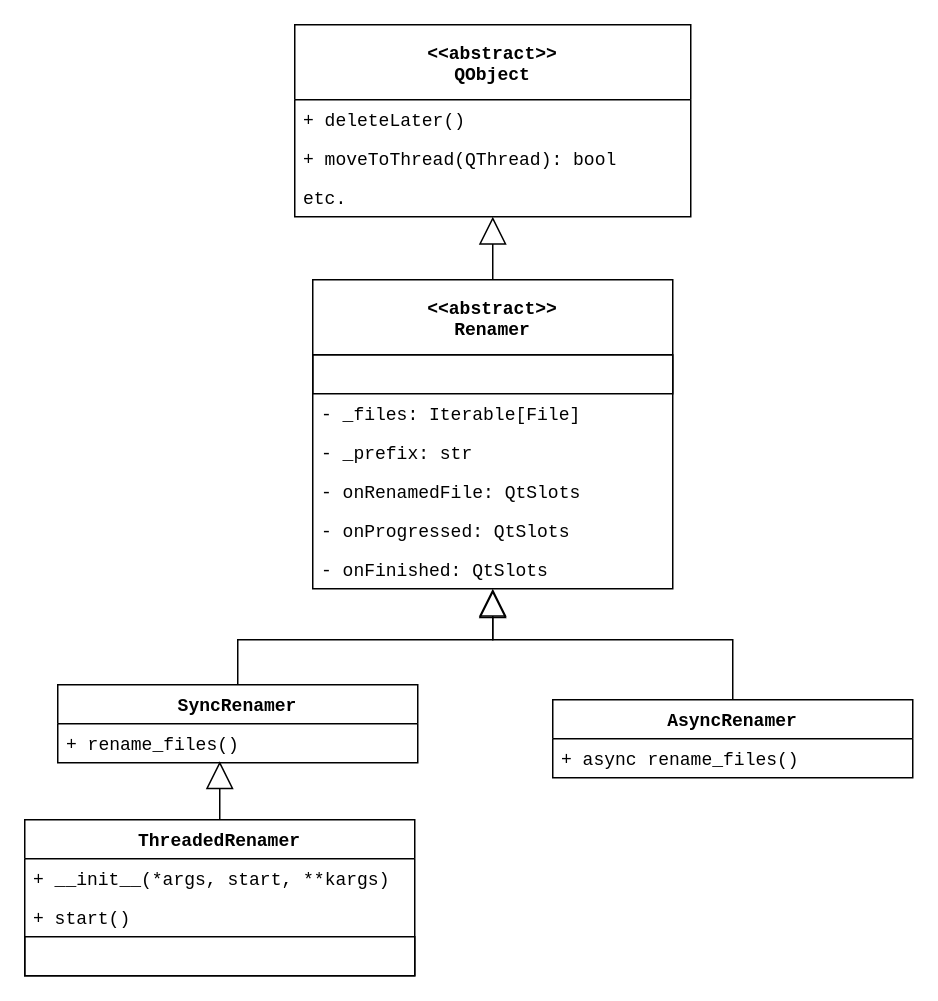
The diagram is 938 pixels wide and 1001 high, and some of its shapes have lost their labels. Here are the shapes that lost their labels. From the top down, the centre of each, then its label:
At (x=492, y=373): "+ __init__(files, prefix, etc.)".
At (x=219, y=955): "- _thread: QThread".
